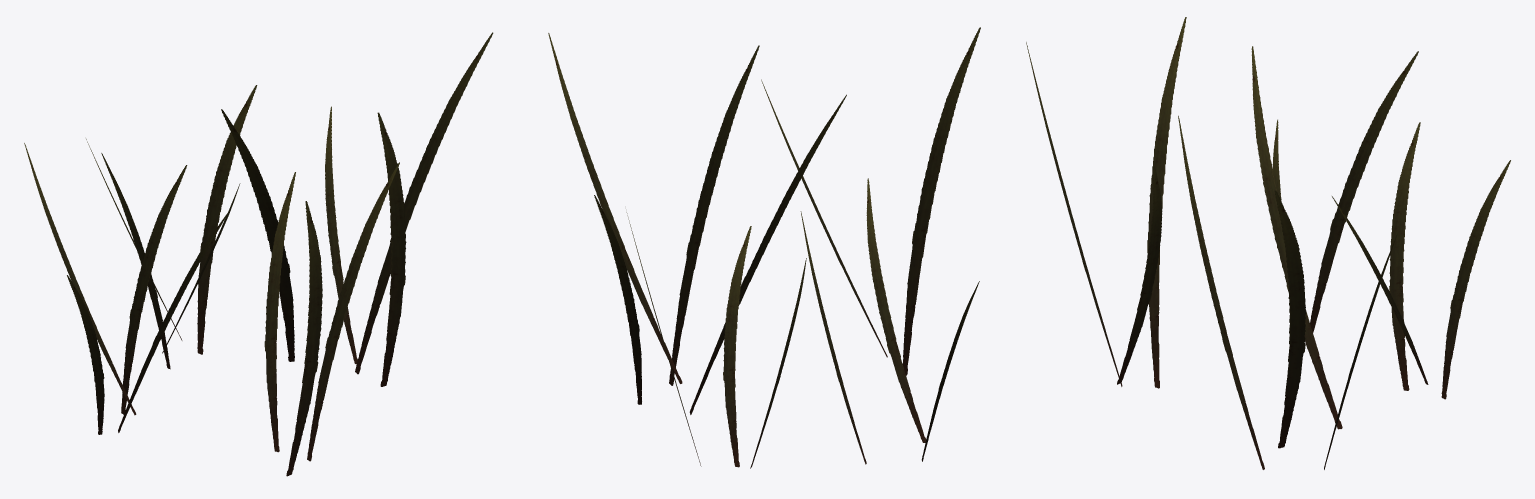
Rendered from grass2.glb.
3 renders of one model, left to right at view 1: azimuth 30°, elevation 25°; view 2: azimuth 150°, elevation 25°; view 3: azimuth 270°, elevation 25°, orthographic. The views are drawn at different scales.
Parts seen in each view (by area): view 1: mid-material.002; view 2: mid-material.002; view 3: mid-material.002.
Boxes of the visible parts, <box> form: mid-material.002: <box>24,32,493,476</box>; mid-material.002: <box>548,27,980,468</box>; mid-material.002: <box>1026,17,1510,469</box>.
Size of the model in its own units: 0.5687 by 0.4089 by 0.5398.
1 material, 1 textured.
